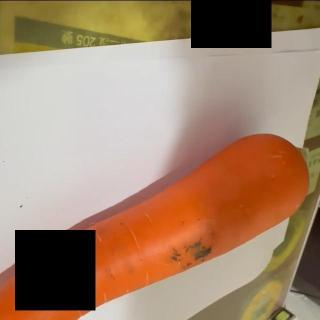carrot: (0, 132, 311, 320)
